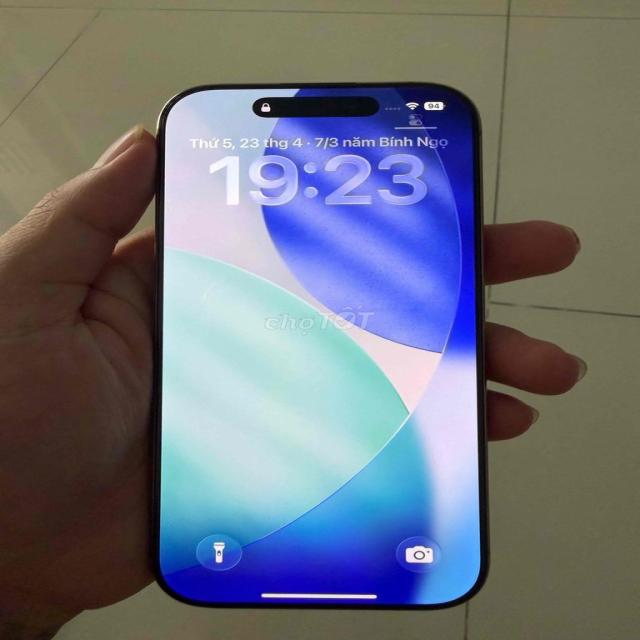gen_16: (155, 81, 486, 609), (262, 146, 460, 351), (283, 148, 357, 195)
